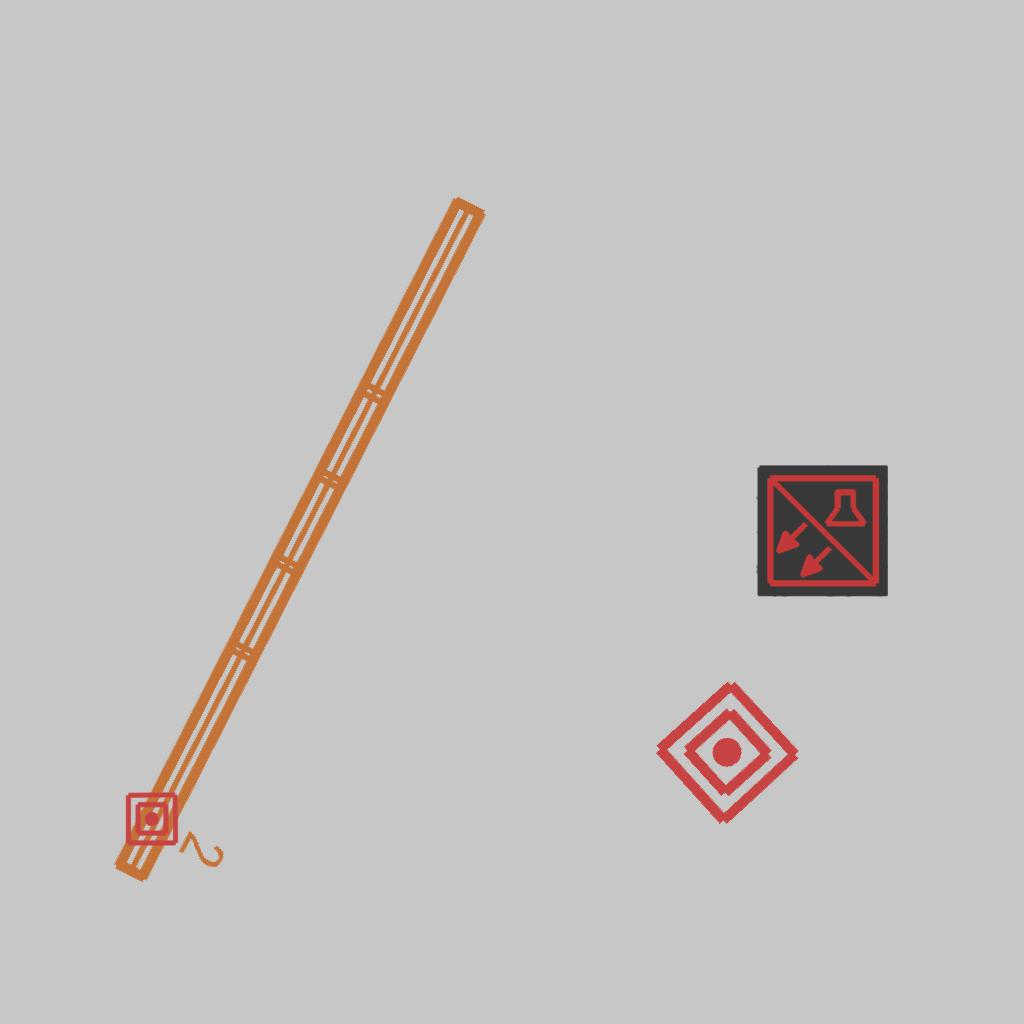Ambulanz_Pendelleuchte_LED: (97, 179, 549, 921)
NAM-Nichtautomatischer_Melder: (647, 672, 808, 833), (124, 791, 180, 847)
OKW_Multisensormelder_(Kombination_optischer_Rauch-Kahlenmonoxid_Waerme-Melder): (756, 465, 888, 597)
